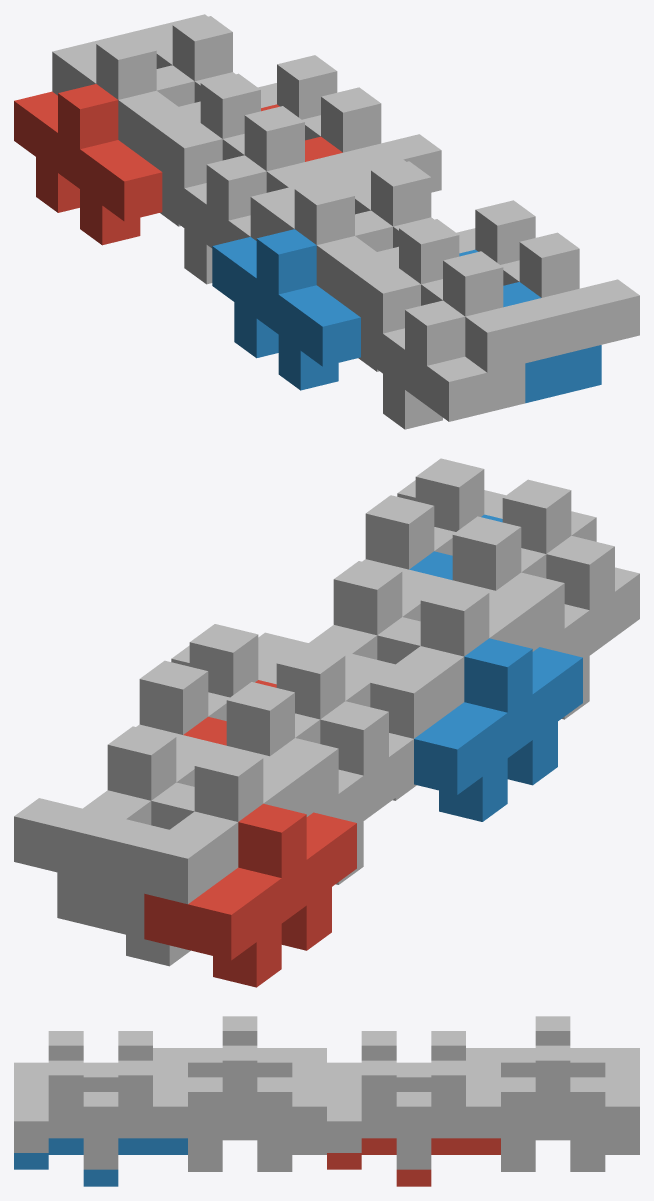
File: tiling.obj
The picture shows the model from 3 angles, top to bottom: view 1: azimuth 30°, elevation 25°; view 2: azimuth 150°, elevation 25°; view 3: azimuth 270°, elevation 25°; orthographic projection. The views are drawn at different scales.
Parts seen in each view (by area): view 1: copy_2_domain_2, copy_1_domain_2, copy_1_domain_1, copy_2_domain_4, copy_2_domain_8, copy_2_domain_1, copy_2_domain_7, copy_2_domain_3, copy_1_domain_4, copy_1_domain_3, copy_1_domain_7, copy_1_domain_8 (+4 smaller); view 2: copy_1_domain_1, copy_1_domain_2, copy_1_domain_3, copy_1_domain_4, copy_1_domain_7, copy_2_domain_2, copy_2_domain_1, copy_2_domain_4, copy_2_domain_3, copy_2_domain_8, copy_2_domain_7, copy_1_domain_8 (+4 smaller); view 3: copy_2_domain_7, copy_2_domain_8, copy_1_domain_7, copy_1_domain_8, copy_2_domain_3, copy_2_domain_4, copy_1_domain_3, copy_1_domain_4, copy_2_domain_5, copy_2_domain_6, copy_1_domain_5, copy_1_domain_6.
Boxes of the visible parts, <box> form: copy_2_domain_2: <box>361,268,525,429</box>; copy_1_domain_2: <box>212,229,360,390</box>; copy_1_domain_1: <box>14,84,162,245</box>; copy_2_domain_4: <box>377,219,563,372</box>; copy_2_domain_8: <box>456,200,639,353</box>; copy_2_domain_1: <box>162,123,266,284</box>; copy_2_domain_7: <box>258,55,441,192</box>; copy_2_domain_3: <box>179,73,364,192</box>; copy_1_domain_4: <box>250,178,398,317</box>; copy_1_domain_3: <box>52,33,199,171</box>; copy_1_domain_7: <box>129,14,276,107</box>; copy_1_domain_8: <box>327,159,474,253</box>; copy_1_domain_1: <box>144,803,356,987</box>; copy_1_domain_2: <box>414,638,582,821</box>; copy_1_domain_3: <box>101,747,313,904</box>; copy_1_domain_4: <box>345,582,539,738</box>; copy_1_domain_7: <box>14,726,225,882</box>; copy_2_domain_2: <box>496,536,639,719</box>; copy_2_domain_1: <box>270,701,413,884</box>; copy_2_domain_4: <box>449,479,596,595</box>; copy_2_domain_3: <box>223,645,370,760</box>; copy_2_domain_8: <box>362,458,505,574</box>; copy_2_domain_7: <box>136,624,279,739</box>; copy_1_domain_8: <box>258,561,451,660</box>; copy_2_domain_7: <box>327,1060,500,1169</box>; copy_2_domain_8: <box>14,1060,187,1169</box>; copy_1_domain_7: <box>466,1045,639,1154</box>; copy_1_domain_8: <box>153,1045,326,1154</box>; copy_2_domain_3: <box>327,1031,500,1091</box>; copy_2_domain_4: <box>14,1031,187,1091</box>; copy_1_domain_3: <box>466,1016,639,1077</box>; copy_1_domain_4: <box>153,1016,326,1077</box>; copy_2_domain_5: <box>327,1138,500,1186</box>; copy_2_domain_6: <box>14,1138,187,1186</box>; copy_1_domain_5: <box>501,1123,639,1171</box>; copy_1_domain_6: <box>188,1123,326,1171</box>.
Size of the model in its own units: 6 by 4 by 18.
